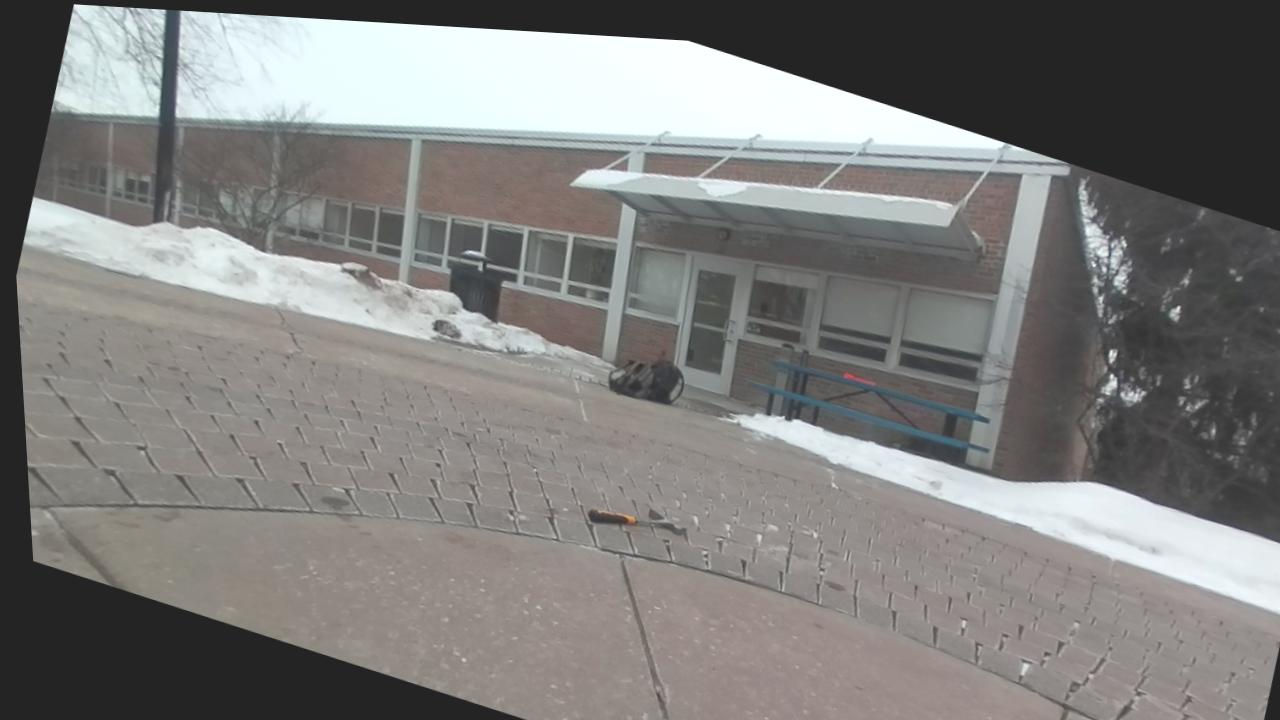pick: (588, 509, 686, 534)
